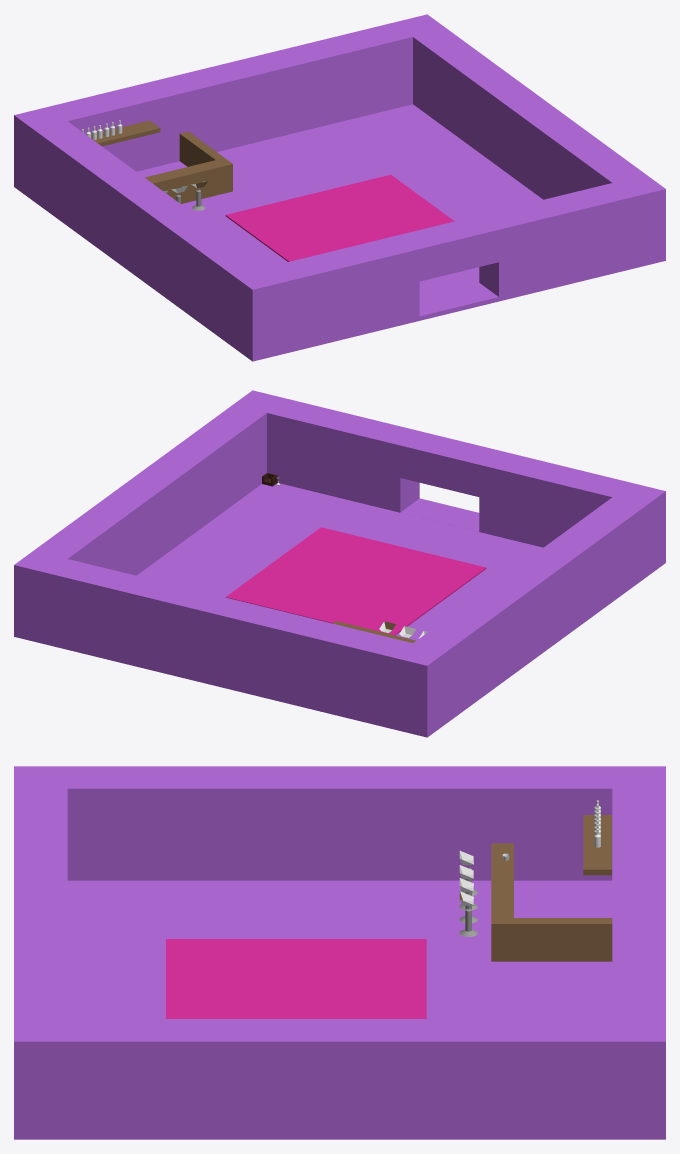
Rendered from Club.fbx.
3 renders of one model, top to bottom at view 1: azimuth 30°, elevation 25°; view 2: azimuth 150°, elevation 25°; view 3: azimuth 270°, elevation 25°, orthographic. The views are drawn at different scales.
Visible parts, largest first — view 1: Cube, Plane, Cube.001; view 2: Cube, Plane, Cube.001; view 3: Cube, Plane, Cube.001.
Part boxes in pixels (<box>): Cube: <box>14,14,665,361</box>; Plane: <box>225,174,454,261</box>; Cube.001: <box>82,120,232,210</box>; Cube: <box>14,390,665,737</box>; Plane: <box>225,527,486,635</box>; Cube.001: <box>333,621,427,642</box>; Cube: <box>14,766,665,1139</box>; Plane: <box>166,939,426,1018</box>; Cube.001: <box>459,800,612,961</box>.
Bounding box in the file's own units: 2489 × 413 × 2489.
